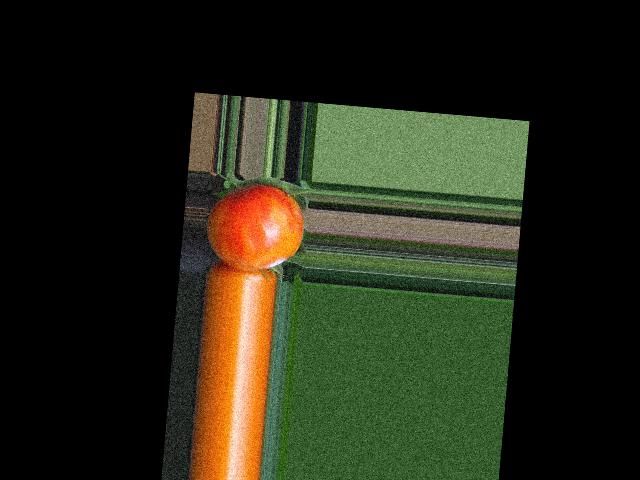tomato: (203, 180, 306, 274)
